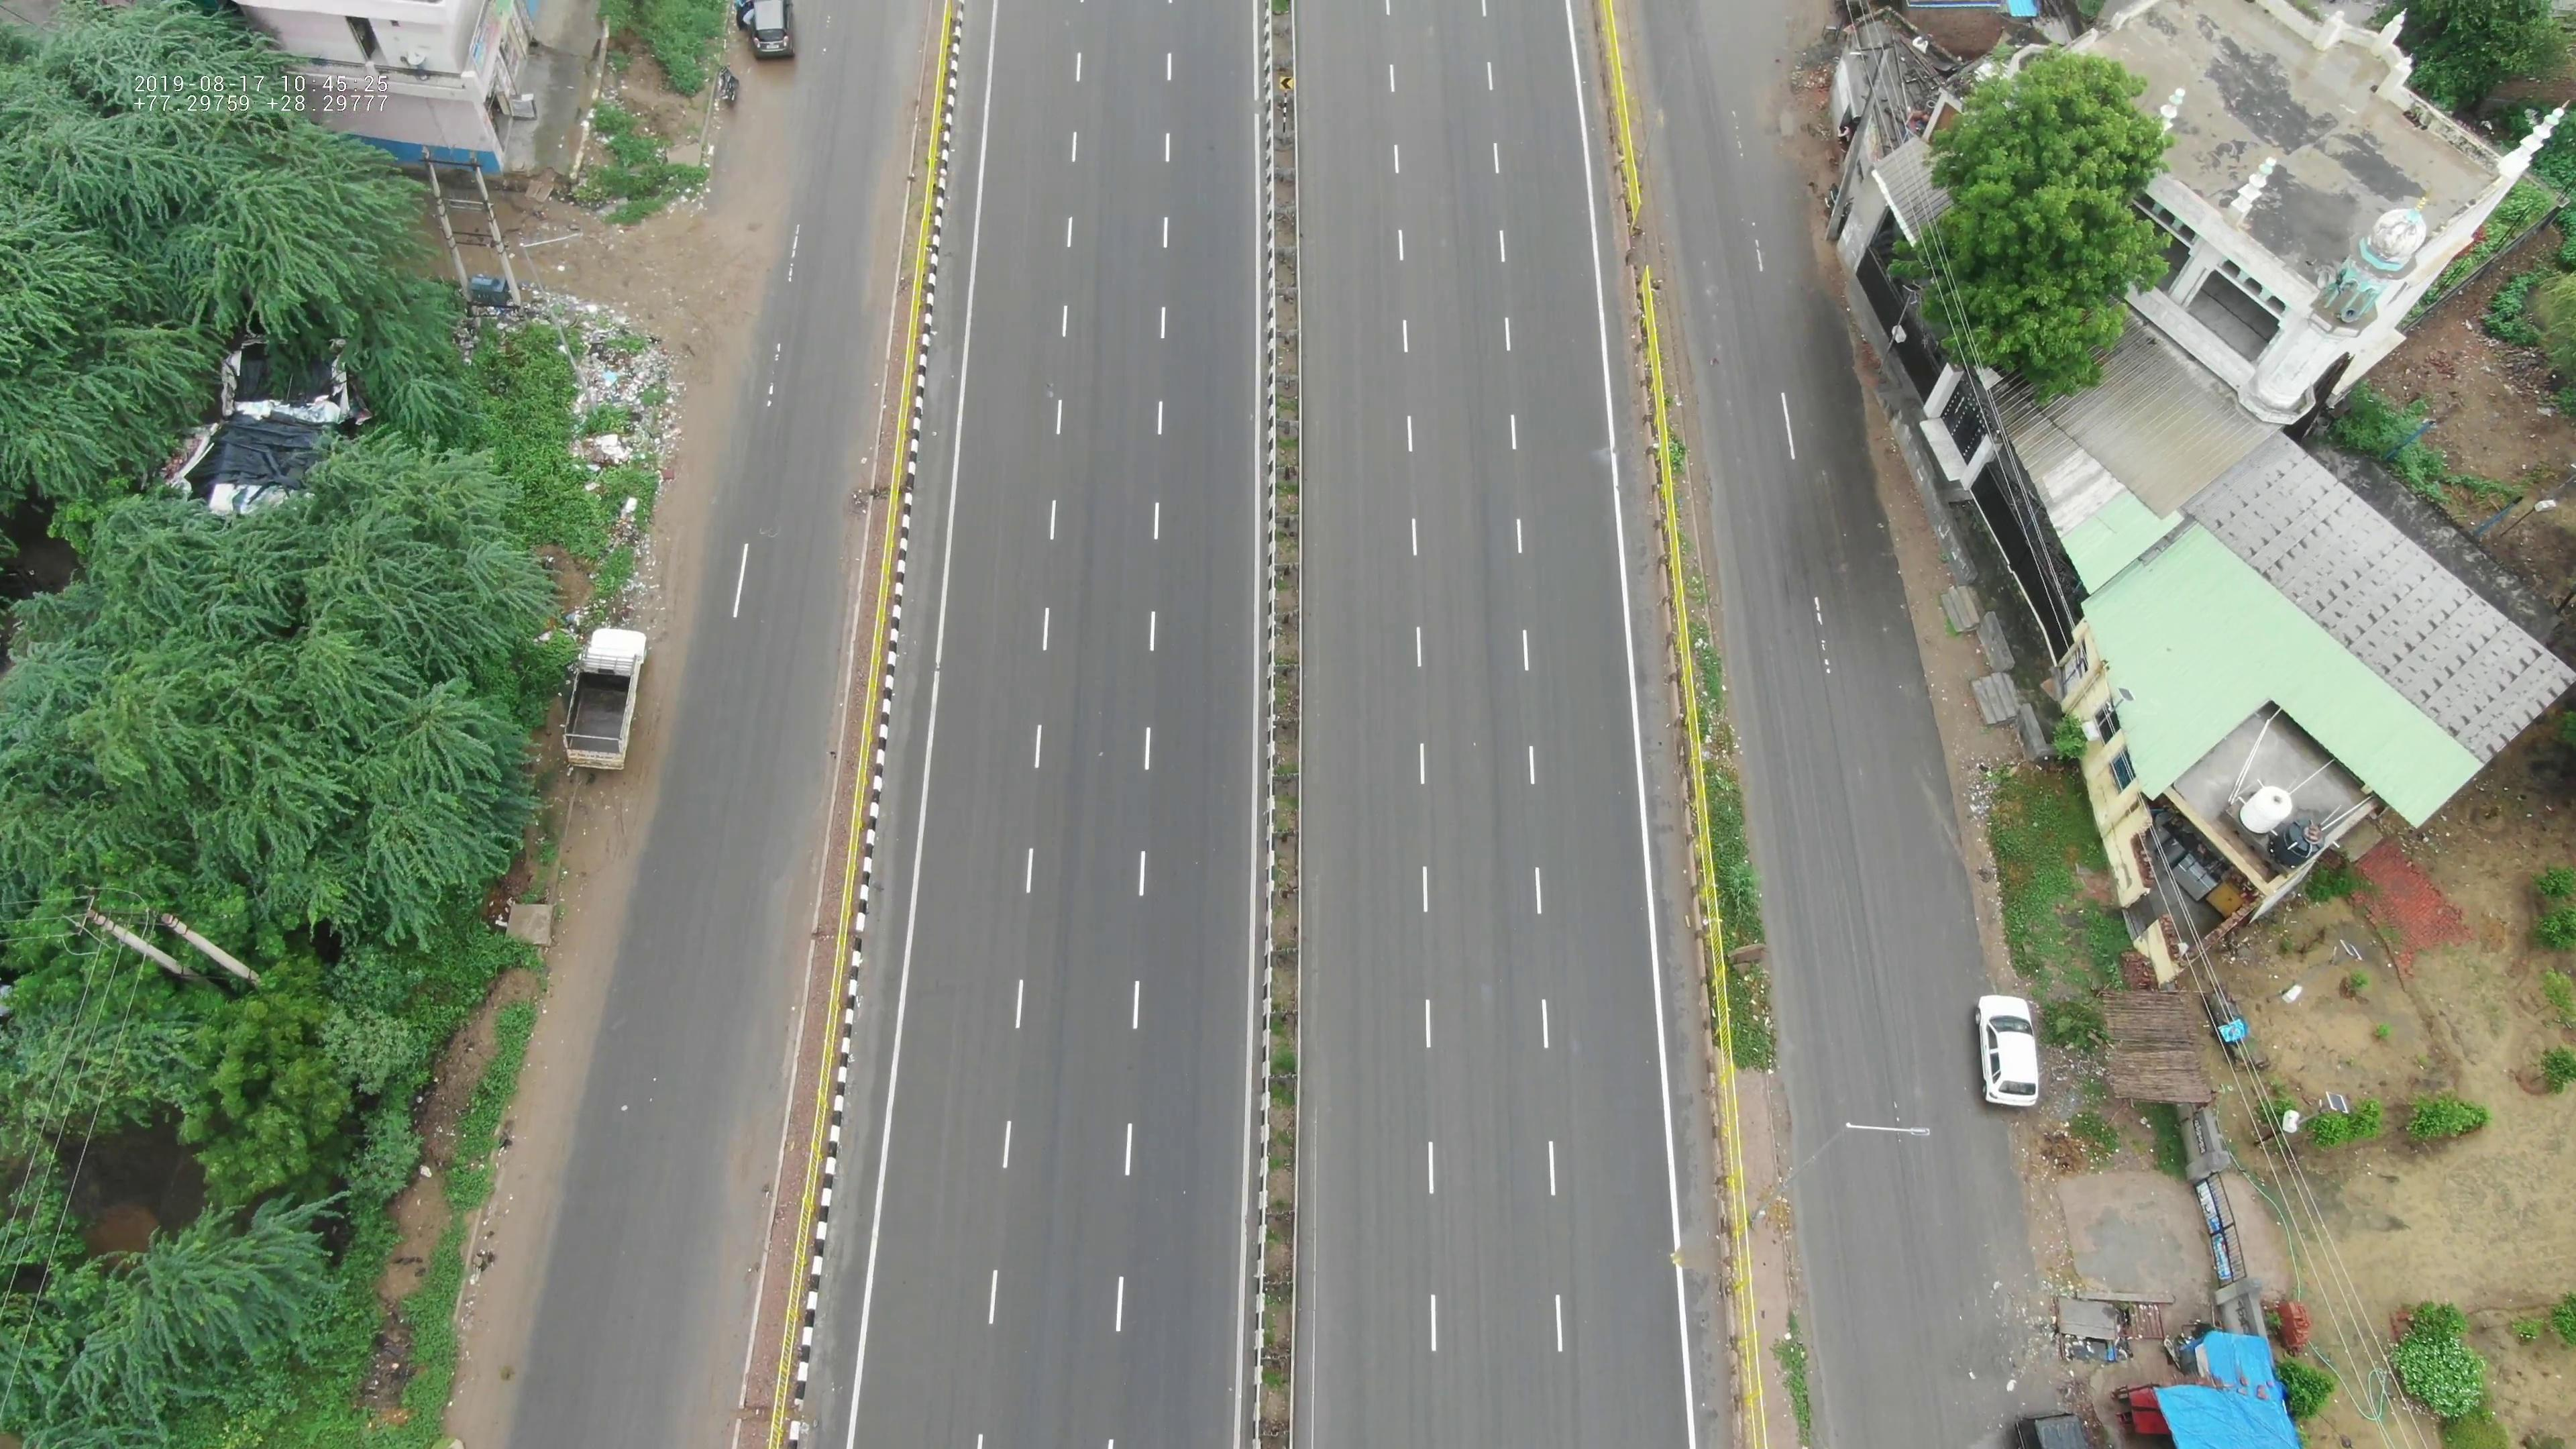Road_side_garbage: (513, 283, 692, 510)
